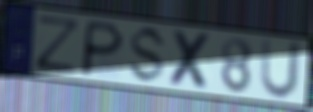8: (220, 36, 254, 95)
P: (78, 18, 127, 79)
S: (126, 25, 169, 85)
U: (257, 36, 305, 103)
X: (167, 27, 214, 93)
Z: (34, 13, 83, 76)
